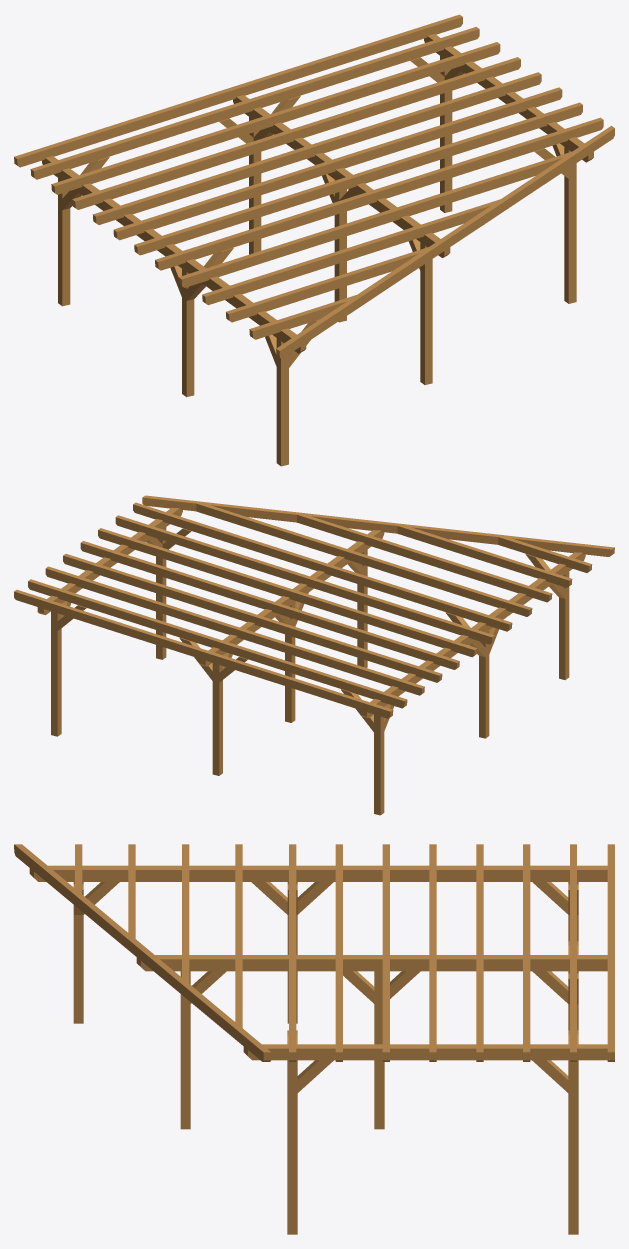
The model's file is Acarport.glb.
3 renders of one model, top to bottom at view 1: azimuth 30°, elevation 25°; view 2: azimuth 150°, elevation 25°; view 3: azimuth 270°, elevation 25°, orthographic. The views are drawn at different scales.
Parts seen in each view (by area): view 1: Material2; view 2: Material2; view 3: Material2.
Part boxes in pixels (<box>): Material2: <box>14,14,614,466</box>; Material2: <box>14,495,614,815</box>; Material2: <box>14,844,614,1234</box>.
Size of the model in its own units: 315 by 118 by 325.
